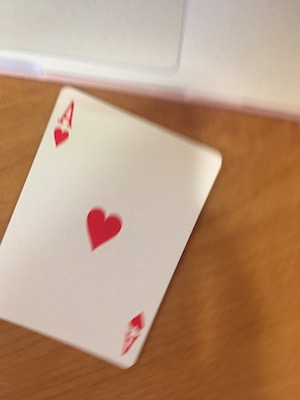AceOfHearts: (10, 84, 226, 370)
